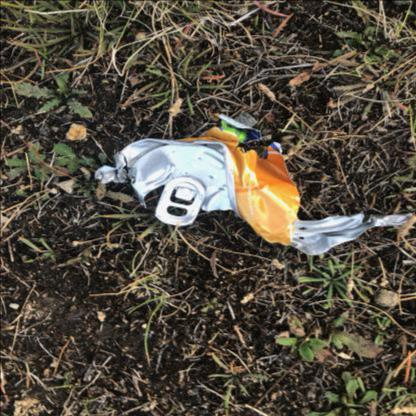Can: (95, 113, 413, 255)
Pop tab: (155, 178, 205, 226)
